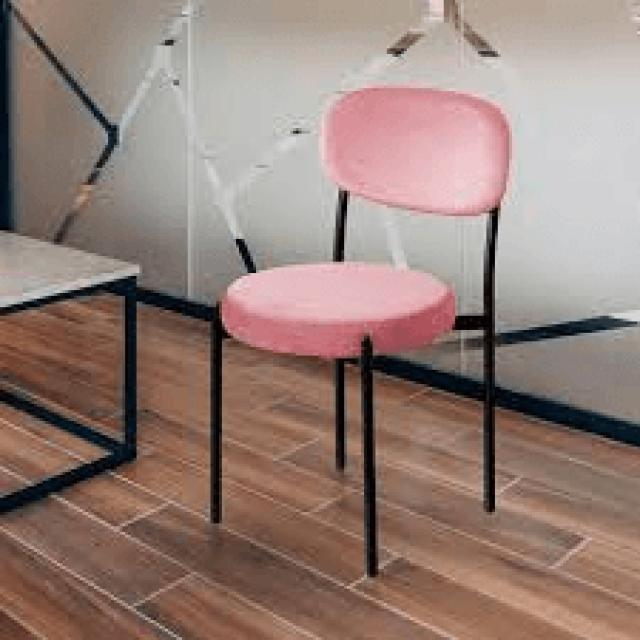chair: (206, 82, 514, 576)
